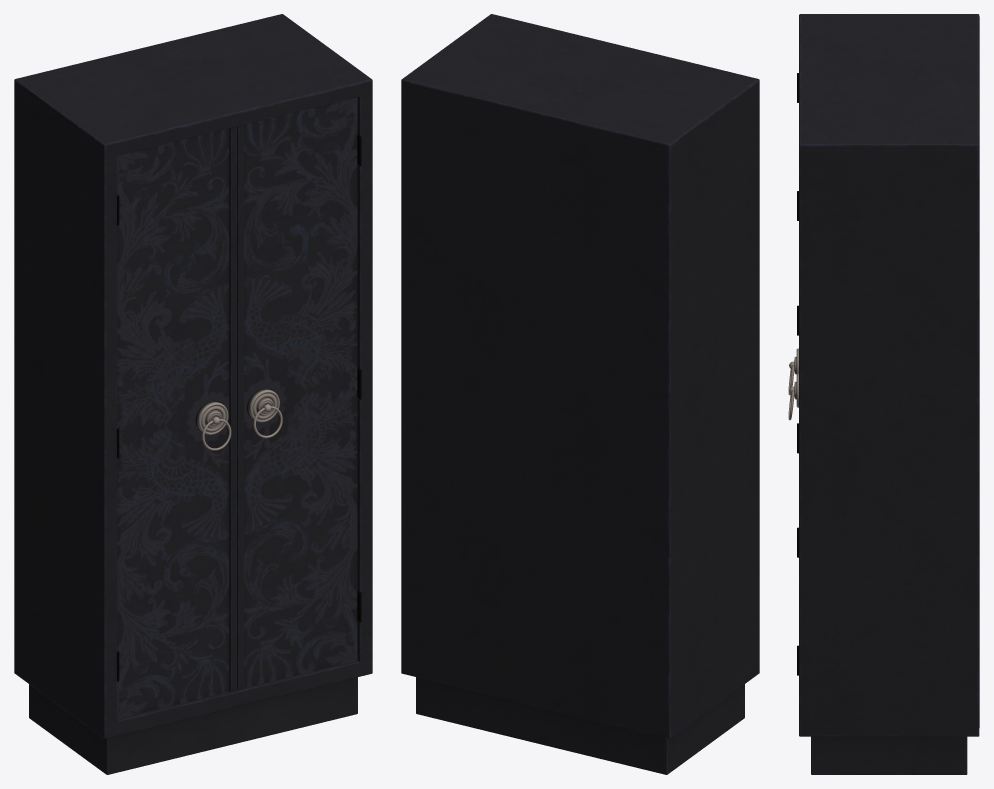
The model's file is Almira.gltf.
The picture shows the model from 3 angles, left to right: view 1: azimuth 30°, elevation 25°; view 2: azimuth 150°, elevation 25°; view 3: azimuth 270°, elevation 25°; orthographic projection.
Parts seen in each view (by area): view 1: Almera_low.001; view 2: Almera_low.001; view 3: Almera_low.001.
Part boxes in pixels (bbox=[...]): Almera_low.001: bbox=[14, 14, 372, 774]; Almera_low.001: bbox=[401, 14, 759, 774]; Almera_low.001: bbox=[788, 14, 979, 774].
Bounding box in the file's own units: 0.8398 × 1.9 × 0.5176.
Materials: 1 (1 with a texture image).
